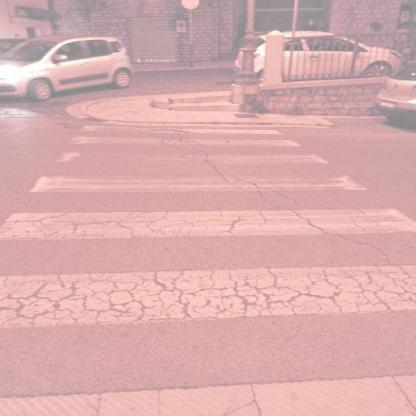crosswalk: (25, 150, 374, 202)
